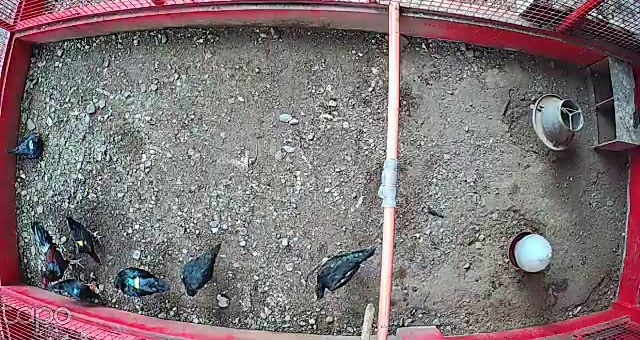Chicken: (312, 242, 376, 306), (171, 241, 225, 299), (61, 212, 108, 266), (112, 263, 173, 301), (49, 279, 110, 310), (7, 132, 49, 162)
Rooster: (29, 220, 87, 292)
Saddle_Color_Blue: (73, 287, 78, 295)
Saddle_Color_Yellow: (76, 239, 86, 248)
Saddle_Color_YellowGreen: (126, 275, 143, 289)
